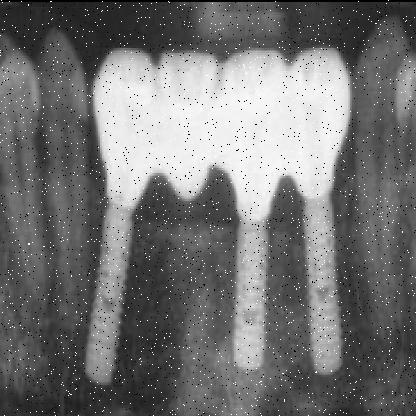ITI: (78, 193, 142, 395), (301, 184, 353, 382), (229, 202, 276, 382)
